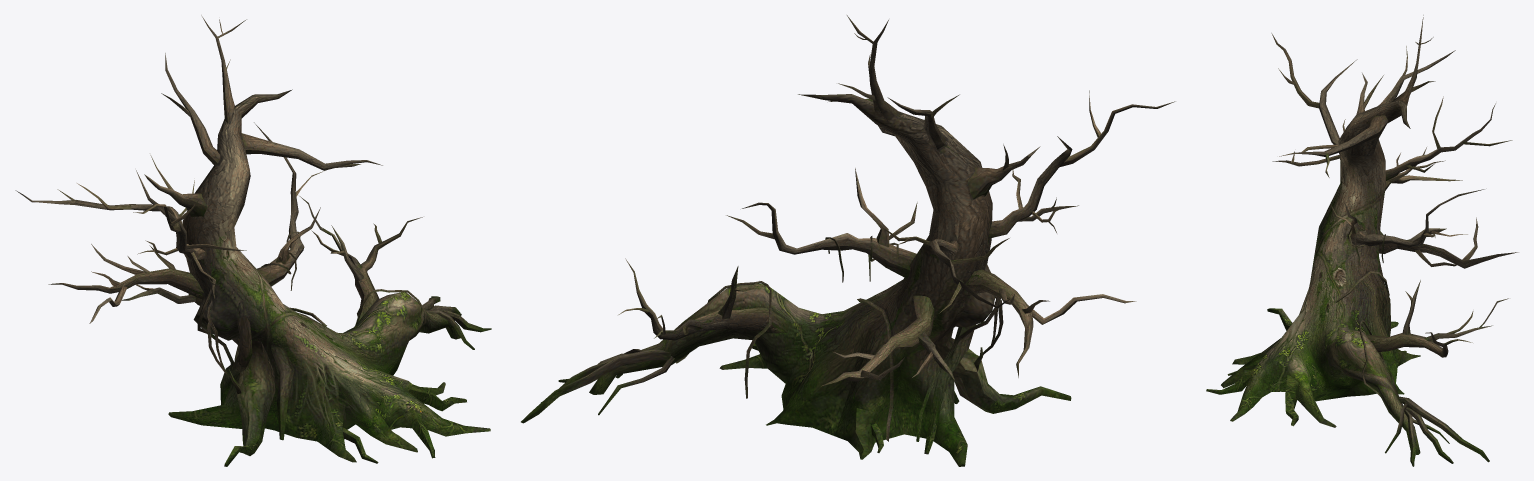
The model's file is zz_shu_2.FBX.
The picture shows the model from 3 angles, left to right: view 1: azimuth 30°, elevation 25°; view 2: azimuth 150°, elevation 25°; view 3: azimuth 270°, elevation 25°; orthographic projection. The views are drawn at different scales.
Parts seen in each view (by area): view 1: zz_shu_2; view 2: zz_shu_2; view 3: zz_shu_2.
Boxes of the visible parts, x1,y1,x2,y2 form: zz_shu_2: [15, 15, 491, 466]; zz_shu_2: [521, 15, 1175, 466]; zz_shu_2: [1206, 15, 1518, 466].
Bounding box in the file's own units: 2405 × 1978 × 1684.
